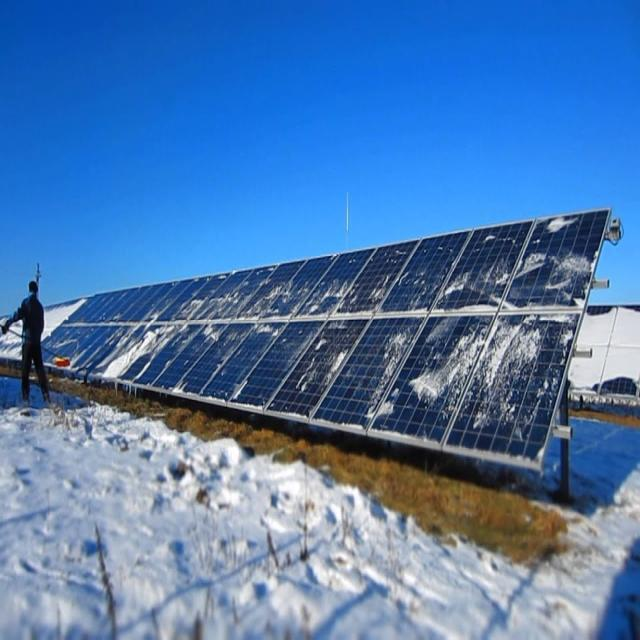Snow: (100, 330, 173, 391), (220, 298, 309, 346), (443, 344, 508, 390), (551, 227, 589, 278), (407, 383, 449, 398), (320, 360, 359, 374)
